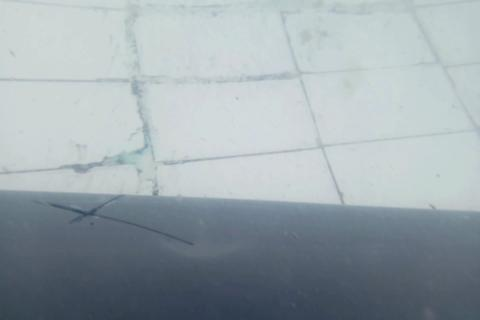keretakan: (30, 192, 196, 249)
